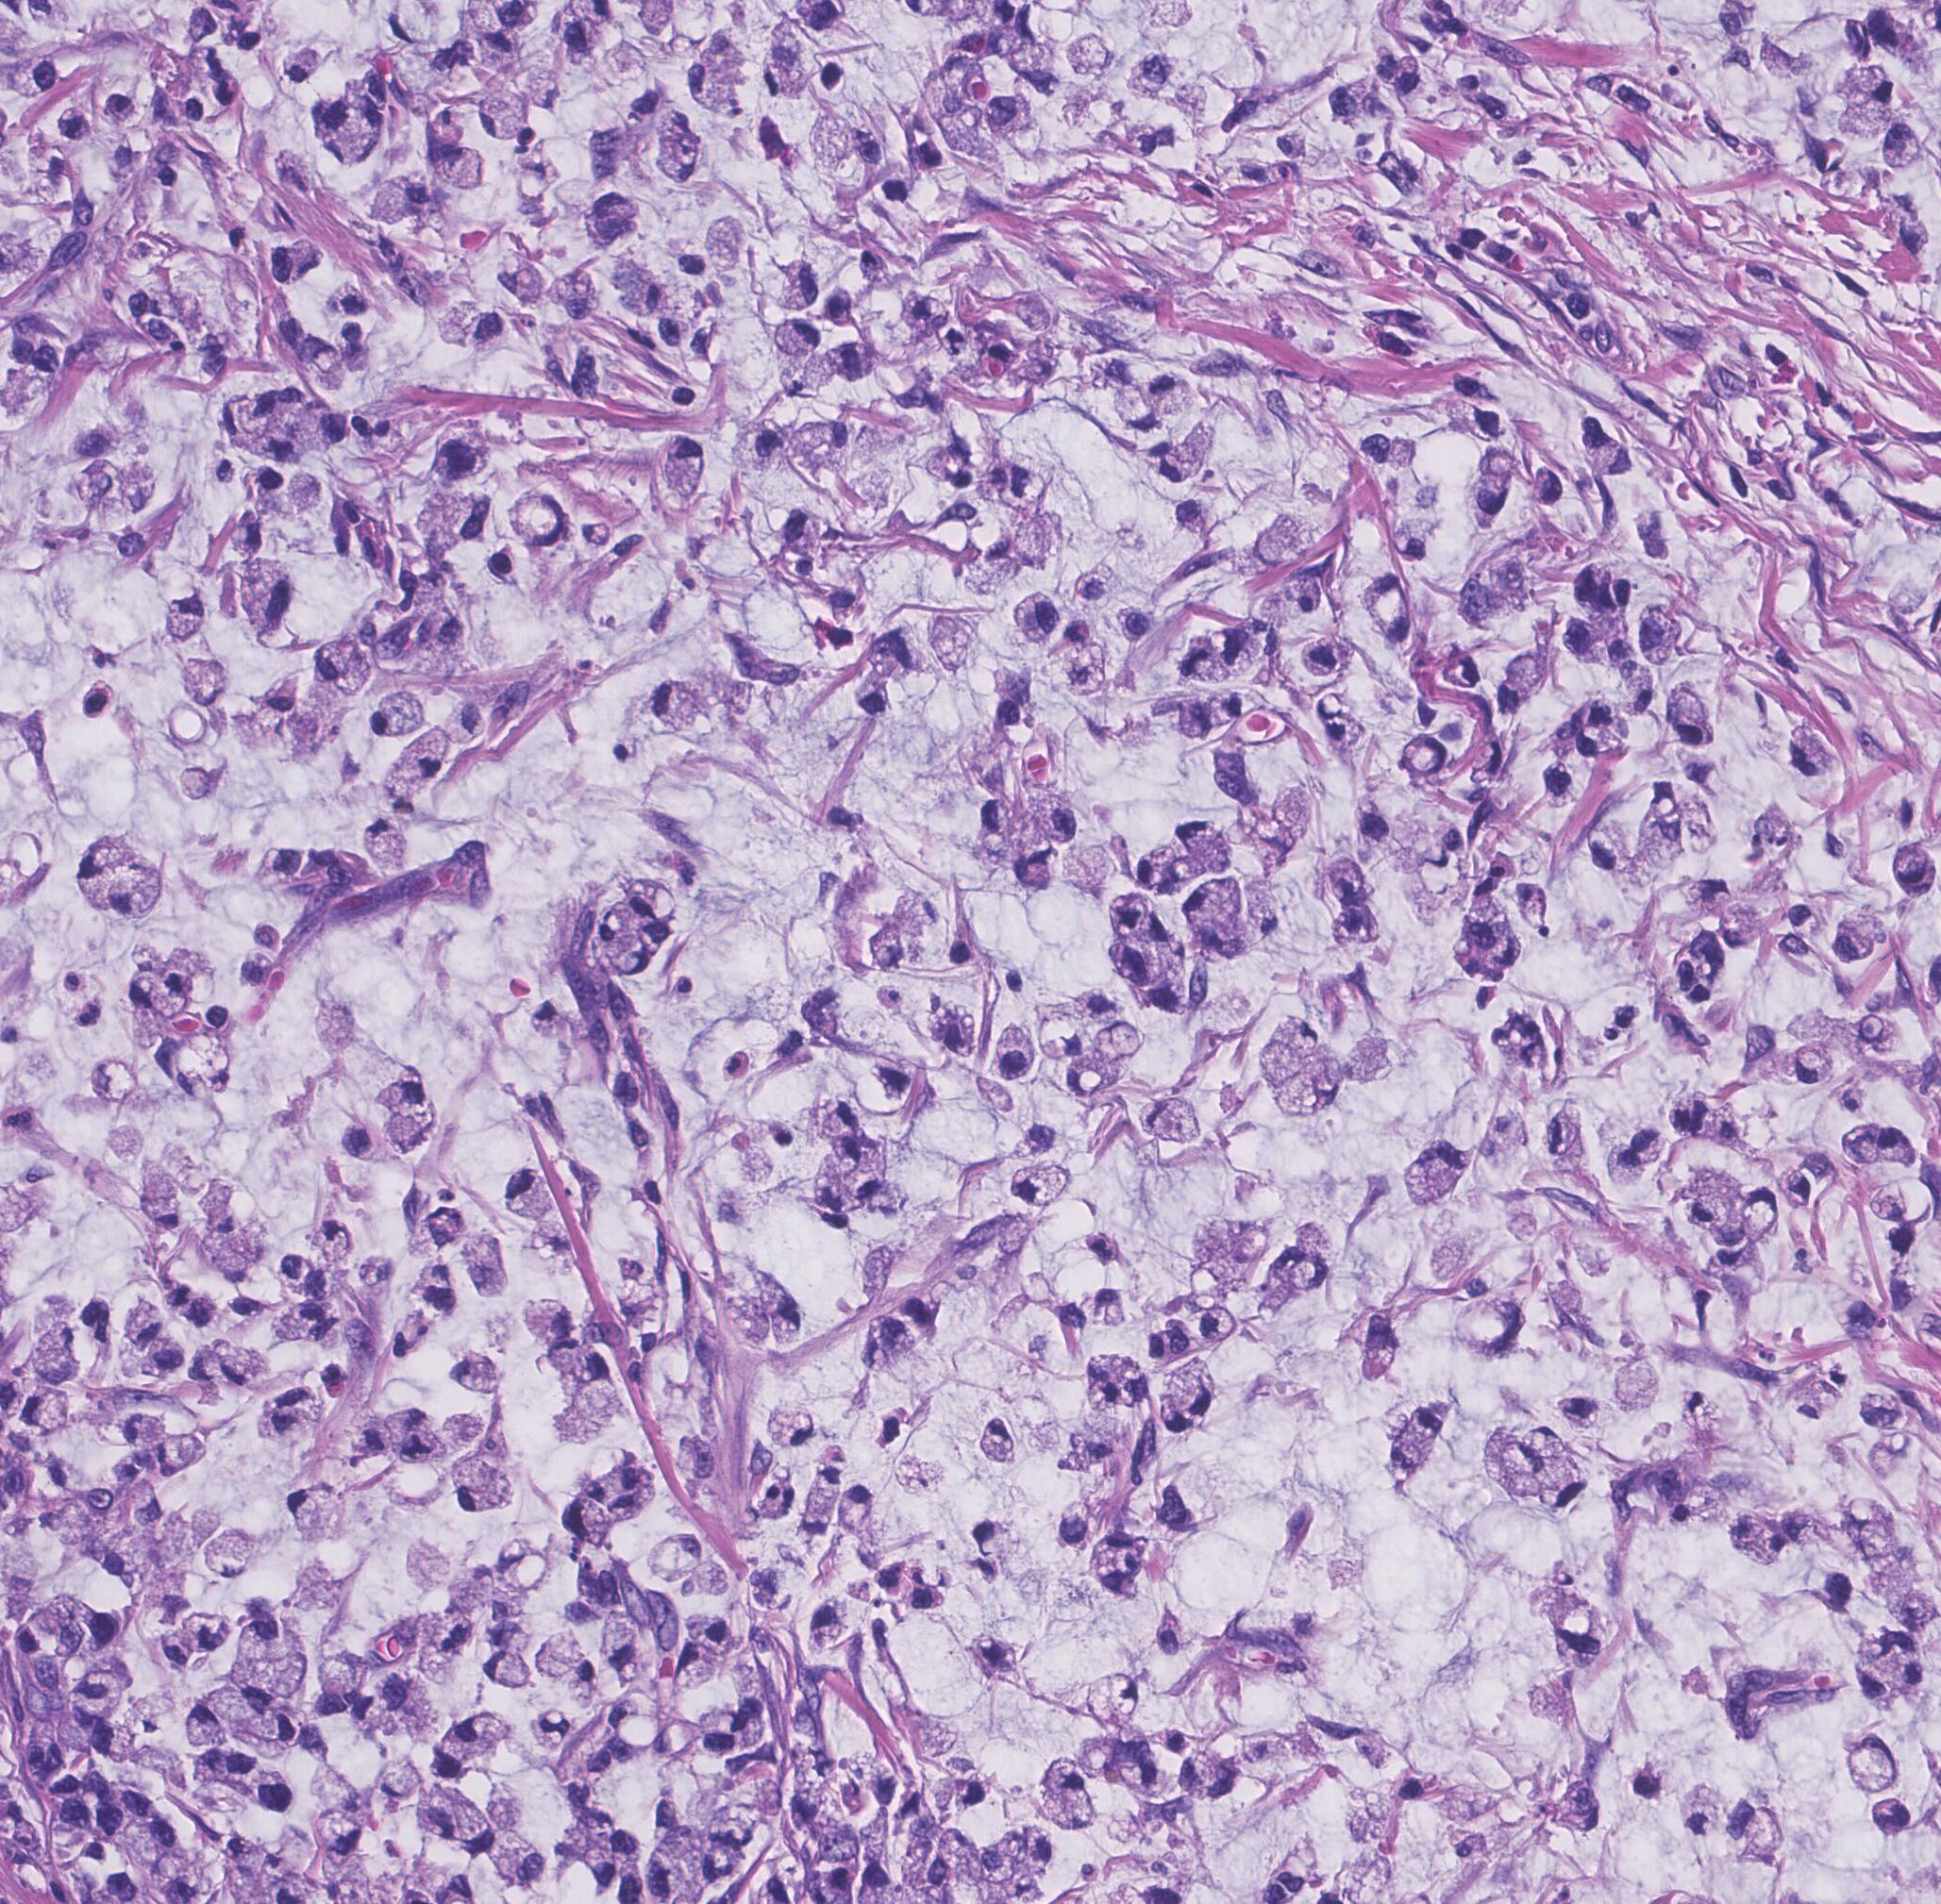ring_cell_cancer: (427, 1780, 499, 1857), (312, 98, 380, 164), (1460, 1292, 1522, 1357), (1379, 1409, 1444, 1472), (1359, 572, 1414, 643), (75, 842, 133, 910), (1325, 905, 1386, 968), (1484, 1437, 1547, 1496), (1039, 1763, 1095, 1829), (1184, 879, 1245, 938), (685, 61, 745, 122), (605, 260, 663, 323), (239, 563, 295, 628), (1852, 1642, 1908, 1707), (417, 492, 490, 541), (1402, 1142, 1463, 1200), (110, 856, 164, 919), (392, 725, 446, 786), (1141, 1095, 1203, 1146), (488, 1829, 544, 1885), (595, 924, 650, 978), (1174, 823, 1231, 875), (429, 145, 487, 197), (375, 174, 432, 227), (645, 1531, 706, 1580), (1845, 1735, 1896, 1792), (452, 1465, 511, 1513), (284, 1486, 344, 1534), (661, 438, 706, 500), (511, 495, 565, 547), (1109, 385, 1167, 434), (1318, 856, 1376, 905), (368, 692, 426, 739), (1667, 689, 1711, 750), (1088, 1676, 1141, 1726), (501, 1168, 553, 1219), (478, 91, 530, 141), (495, 255, 544, 307), (1011, 1159, 1066, 1207), (363, 819, 410, 874), (235, 1709, 302, 1747), (1496, 656, 1540, 713), (1165, 1369, 1216, 1418), (560, 1496, 610, 1545), (1148, 371, 1198, 420), (5, 56, 59, 101), (994, 1027, 1038, 1083), (856, 1179, 912, 1222), (1552, 1784, 1601, 1833), (228, 1660, 277, 1707), (588, 195, 635, 244), (178, 657, 223, 708), (314, 1808, 363, 1853), (1788, 727, 1833, 776), (209, 1533, 256, 1578), (652, 682, 699, 727), (1718, 901, 1763, 949), (1029, 804, 1074, 851), (310, 636, 359, 680), (1404, 732, 1453, 776), (1894, 846, 1938, 894), (685, 1611, 734, 1655), (520, 1299, 570, 1341), (764, 1407, 814, 1449), (1067, 1055, 1118, 1097), (1618, 664, 1658, 717), (237, 1620, 289, 1660), (153, 1438, 208, 1477), (1015, 596, 1062, 640), (656, 134, 699, 181), (181, 1702, 223, 1751), (1737, 1187, 1779, 1236), (448, 1353, 499, 1393), (265, 1653, 310, 1697), (778, 265, 821, 310), (24, 1384, 68, 1430), (167, 596, 209, 643), (773, 319, 820, 361), (426, 1613, 473, 1655), (183, 1615, 232, 1655), (89, 1060, 138, 1100), (1679, 1785, 1720, 1834), (453, 1719, 504, 1758), (1603, 1144, 1648, 1186), (1182, 636, 1224, 682), (978, 800, 1024, 842), (122, 1301, 164, 1346), (497, 1550, 544, 1590), (1882, 120, 1922, 167), (677, 1642, 717, 1690), (807, 1604, 846, 1653), (140, 1186, 181, 1229), (1160, 441, 1203, 483), (1835, 922, 1876, 966), (1177, 1756, 1219, 1799), (1587, 438, 1634, 476), (1512, 882, 1549, 931), (1392, 518, 1434, 560), (1135, 844, 1175, 887), (377, 1761, 420, 1801), (483, 1653, 530, 1690), (1840, 1126, 1880, 1168), (821, 1100, 863, 1140), (345, 1695, 385, 1737), (284, 239, 324, 281), (1793, 1046, 1836, 1085), (1104, 1022, 1151, 1057), (1690, 1193, 1730, 1233), (980, 1419, 1017, 1463), (1475, 469, 1512, 513), (1092, 1285, 1128, 1329), (1285, 577, 1324, 617), (521, 73, 562, 112), (446, 704, 488, 741), (279, 47, 321, 84), (1880, 1125, 1915, 1168), (1017, 847, 1052, 891), (317, 1222, 351, 1268), (1575, 724, 1611, 764), (1524, 1425, 1564, 1461), (1531, 466, 1564, 509), (1200, 1306, 1238, 1343), (159, 1630, 197, 1667), (227, 520, 263, 556), (190, 1346, 225, 1384), (1287, 1257, 1327, 1290), (220, 1351, 260, 1384), (1442, 657, 1479, 692), (1172, 500, 1209, 535), (1254, 532, 1292, 565), (842, 1487, 870, 1533), (120, 1412, 160, 1444), (129, 976, 160, 1017), (1871, 1191, 1908, 1224), (1856, 1013, 1890, 1046), (1057, 1512, 1092, 1545), (1271, 131, 1306, 160), (579, 521, 616, 546), (84, 474, 115, 500)
